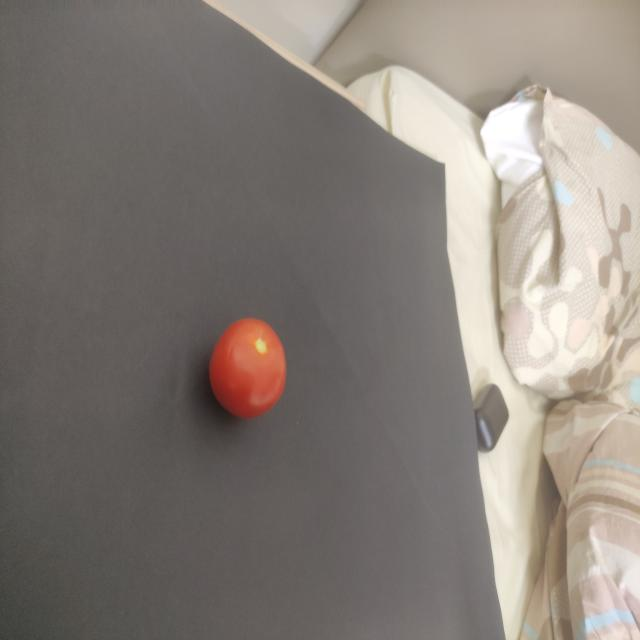kirmizi: (198, 297, 310, 424)
